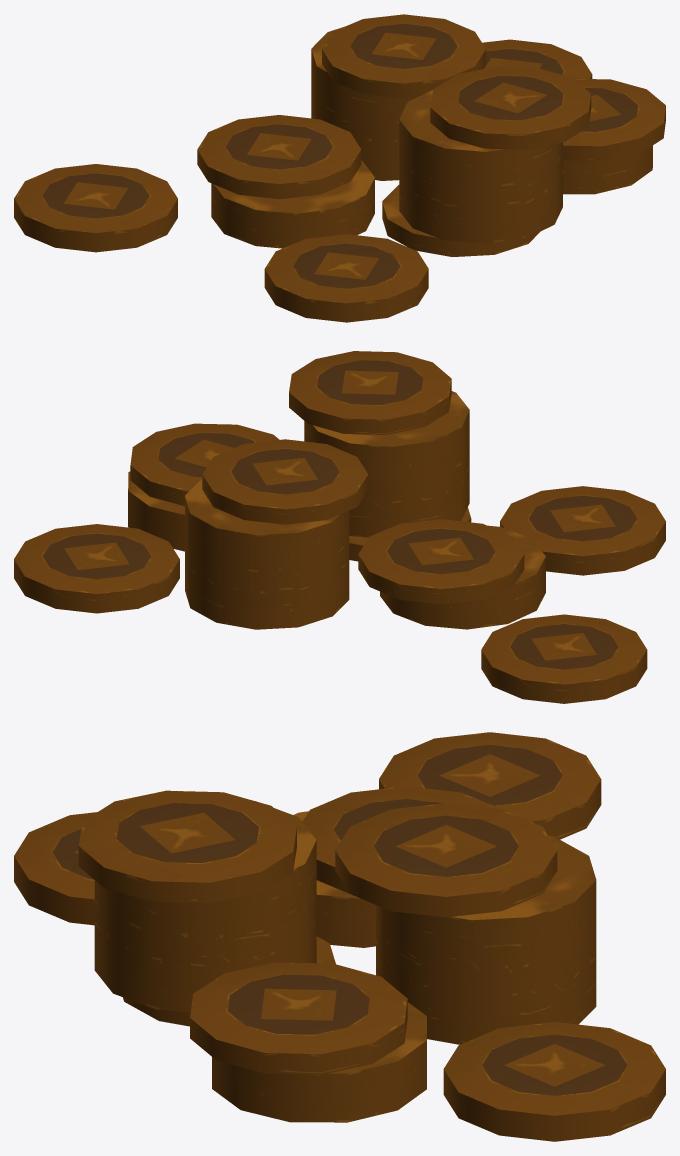
File: Coin_Pile_2.glb
The picture shows the model from 3 angles, top to bottom: view 1: azimuth 30°, elevation 25°; view 2: azimuth 150°, elevation 25°; view 3: azimuth 270°, elevation 25°; orthographic projection. The views are drawn at different scales.
Visible parts, largest first — view 1: Coin_Pile_2; view 2: Coin_Pile_2; view 3: Coin_Pile_2.
Boxes of the visible parts, x1,y1,x2,y2 form: Coin_Pile_2: (14,14,665,322); Coin_Pile_2: (14,351,665,703); Coin_Pile_2: (14,732,665,1141).
Bounding box in the file's own units: 0.2787 × 0.0585 × 0.2002.
1 material, 1 textured.
